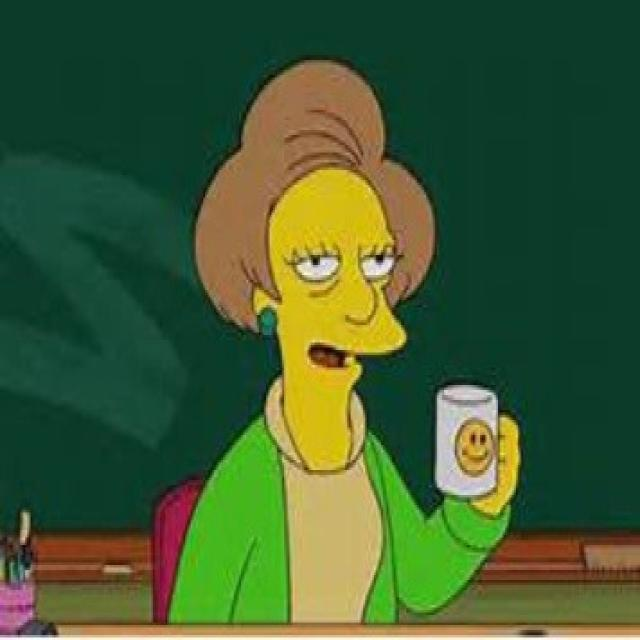Edna Krappel: (189, 52, 437, 482)
